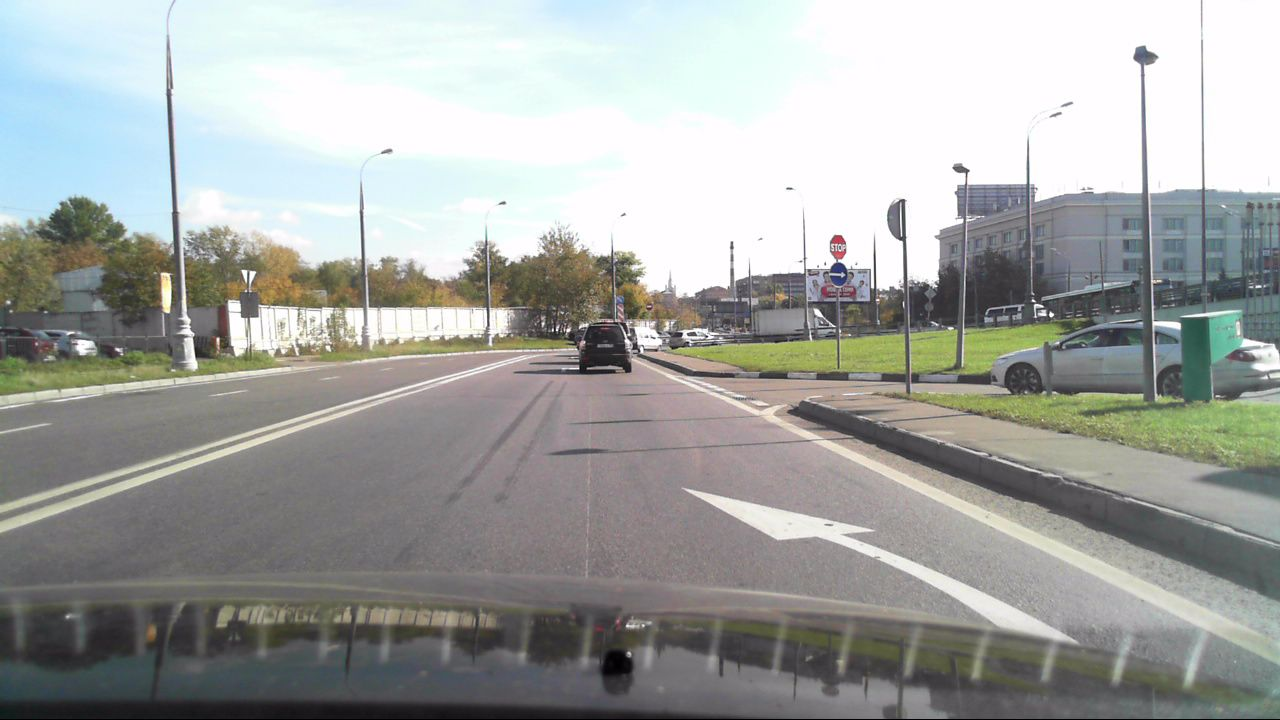Turn Right: (829, 262, 849, 287)
